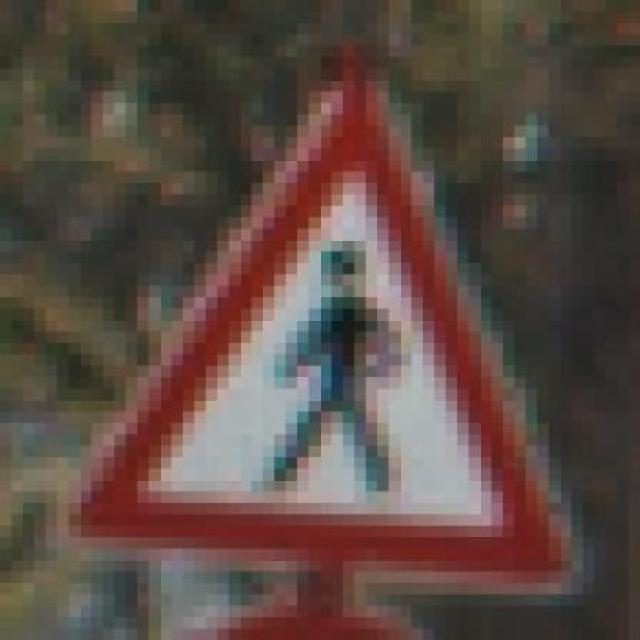Pedestrian Crossing: (45, 45, 606, 606)
